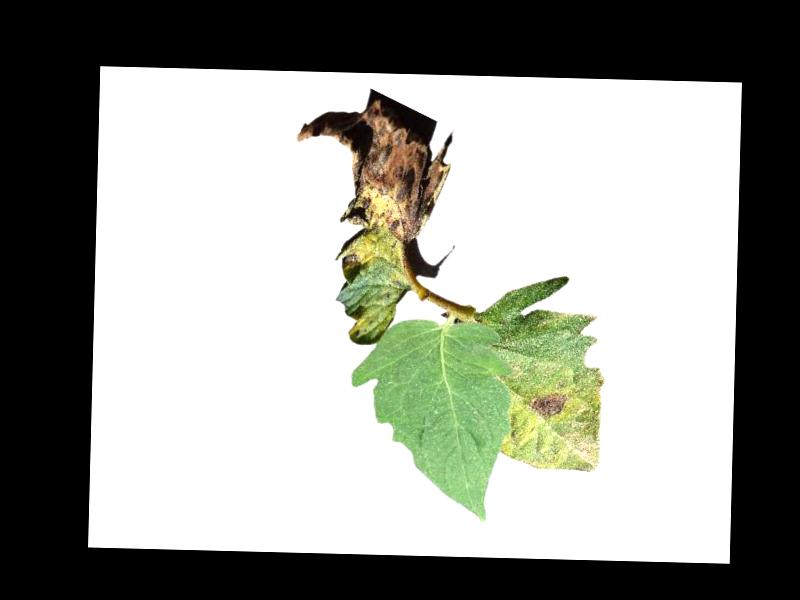Early_blight: (288, 96, 454, 273), (530, 392, 568, 422)
